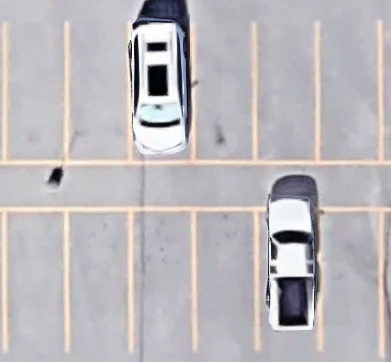Occupied: (128, 22, 194, 163), (256, 208, 321, 351)
Vacant: (130, 208, 196, 351), (66, 209, 132, 351), (193, 209, 258, 351), (66, 22, 131, 163), (254, 22, 319, 163), (317, 22, 382, 162), (320, 207, 383, 351), (3, 208, 66, 351), (3, 22, 67, 162), (193, 22, 256, 163)
